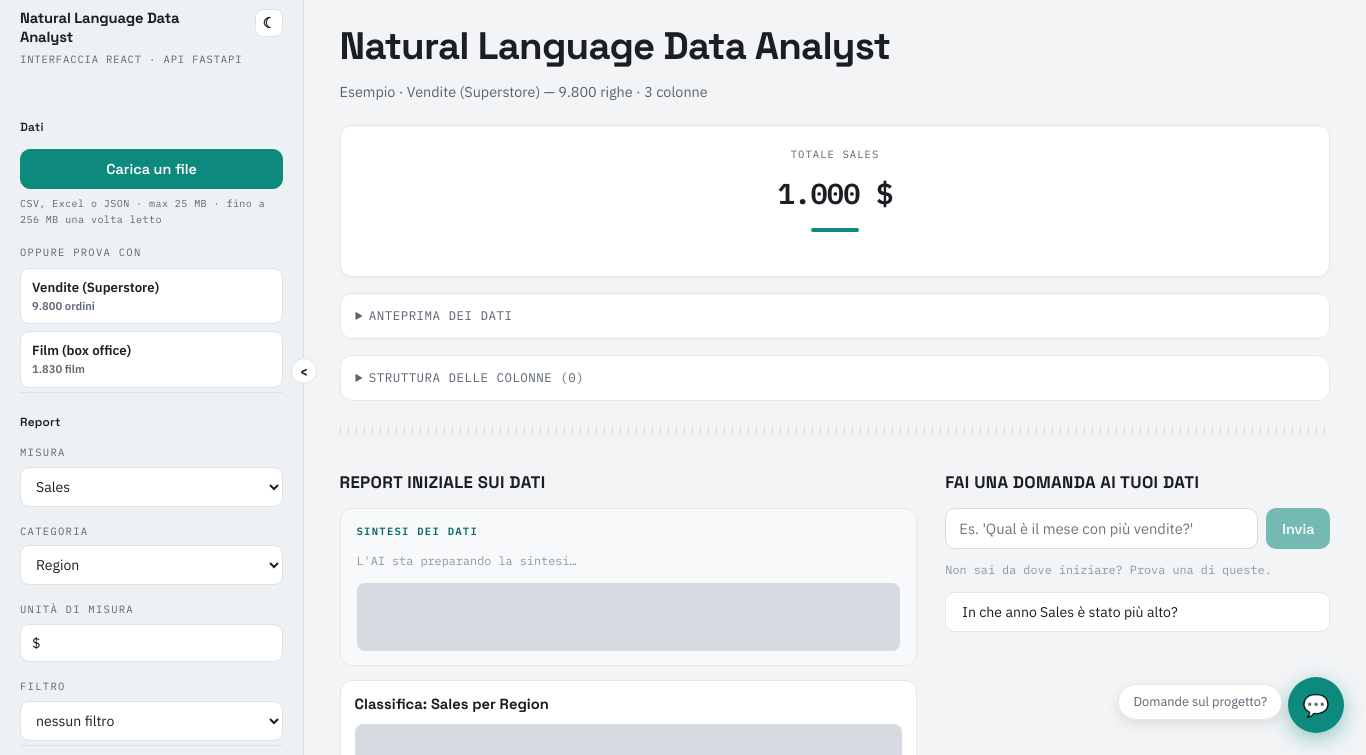
Test case: filtro › si toglie dal riquadro in cima
Expected: the text "Totale Sales" is shown, [791, 147, 879, 161]
Select "Region" in the 3rd dropdown at (152, 721), box [20, 701, 283, 741]
(page scrolled)
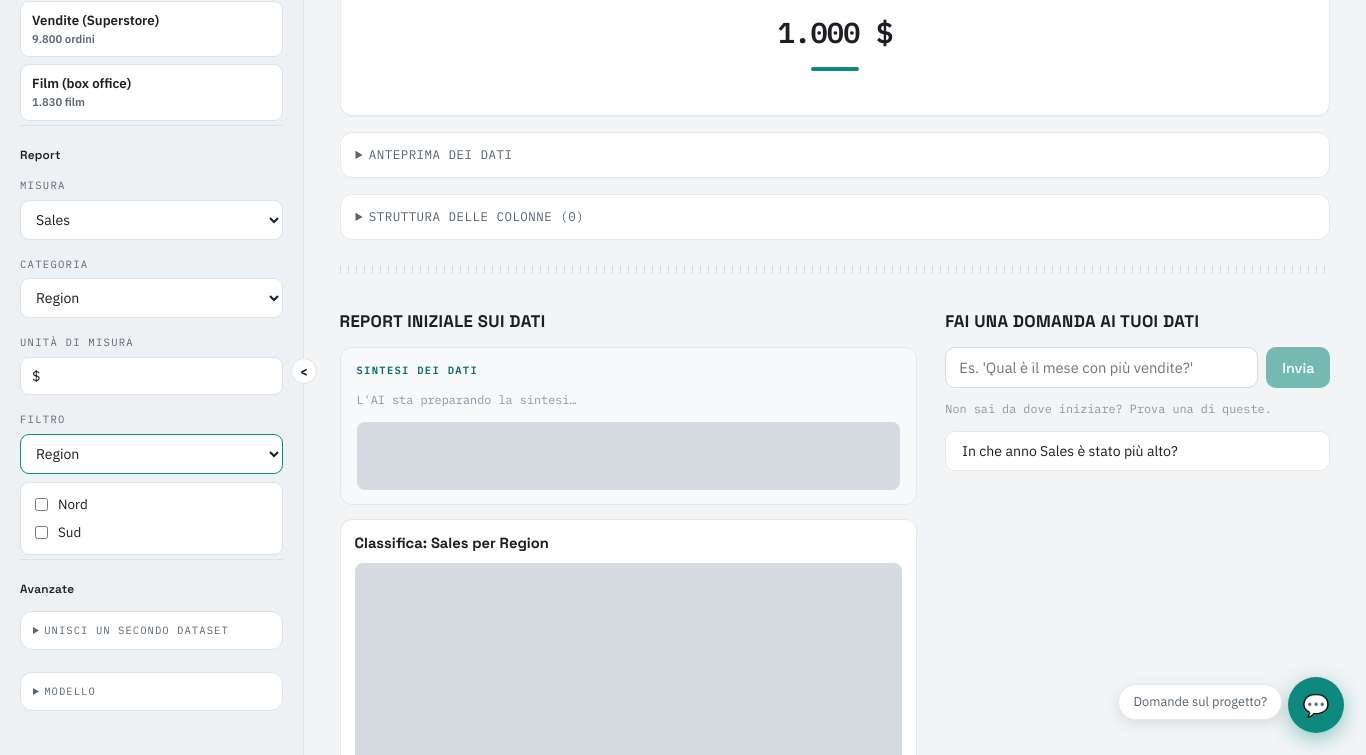
Now the checkbox labelled "Sud" is shown
Click the checkbox labelled "Sud" at (42, 532), box [35, 526, 48, 539]
(page scrolled)
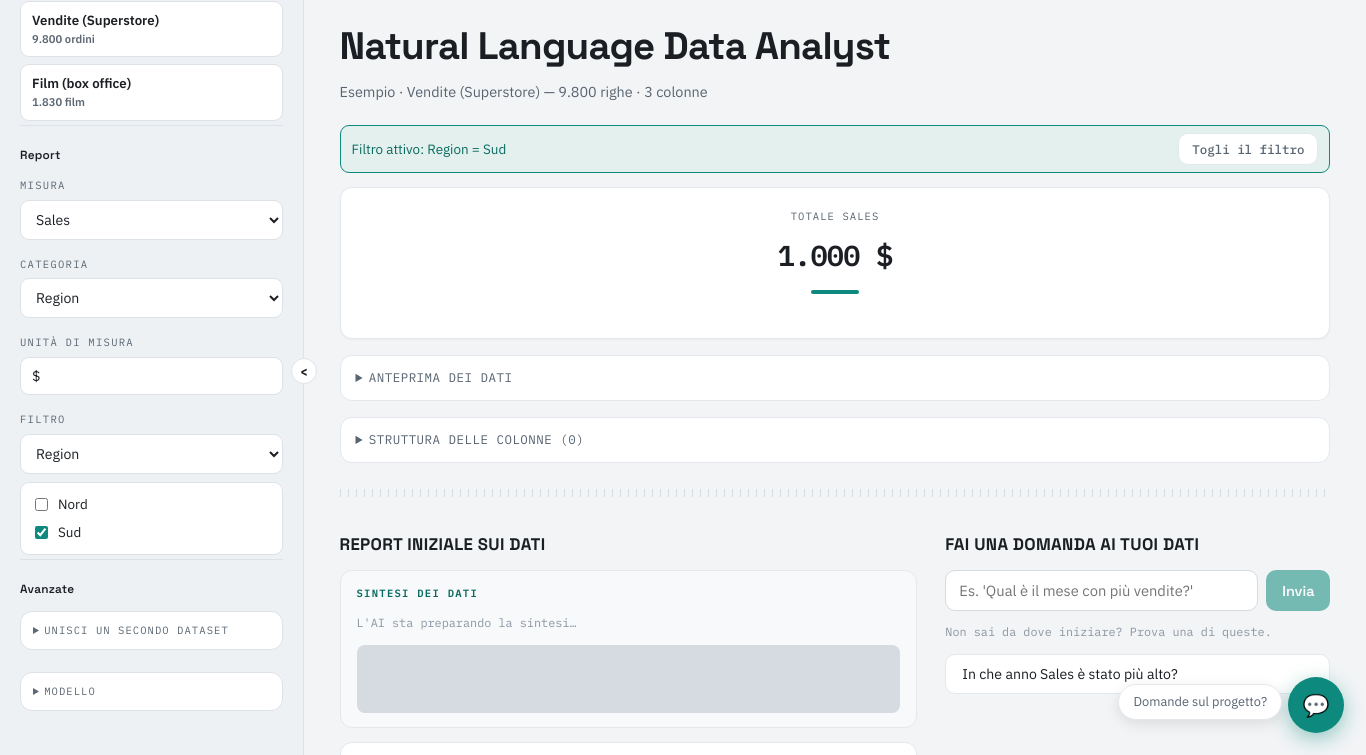
Now the text "Filtro attivo: Region = Sud" is shown, box [352, 139, 506, 160]
Click the button "Togli il filtro" at (1248, 149), box [1178, 133, 1318, 165]
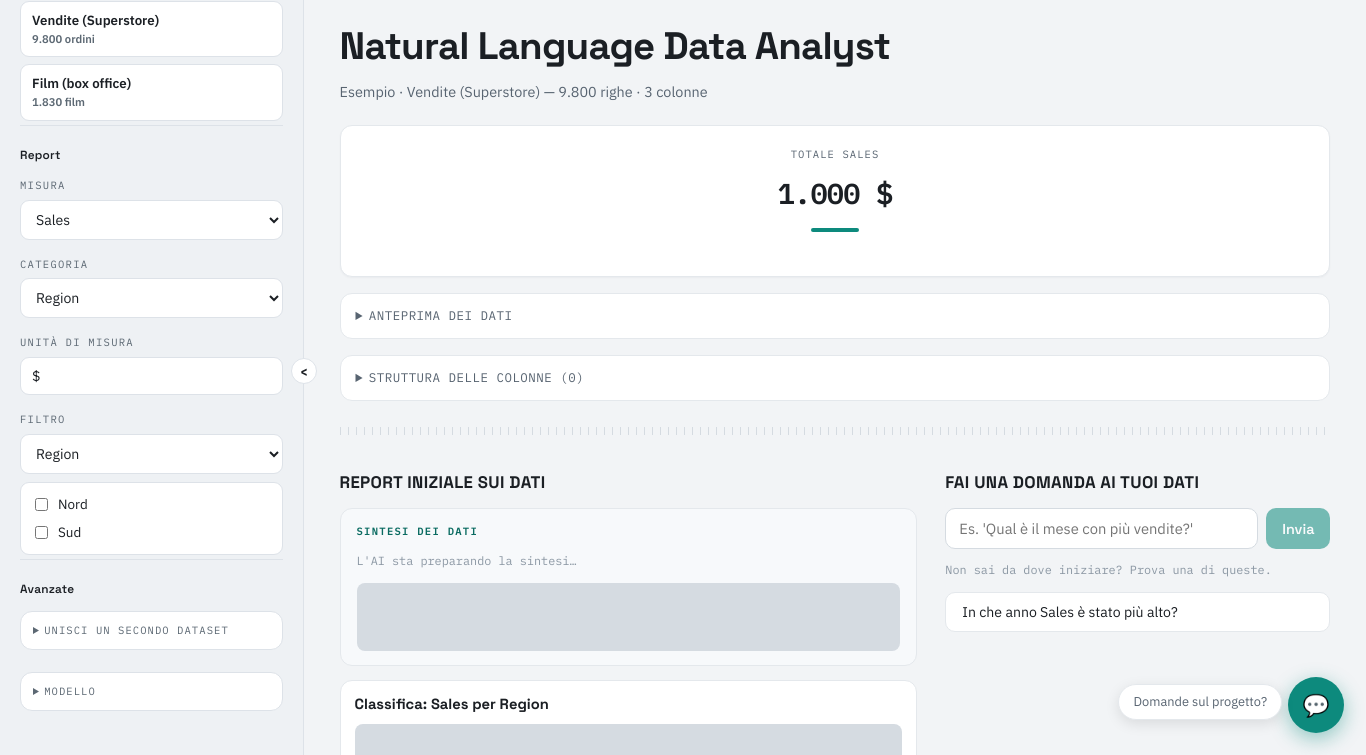
Now the text "Filtro attivo" is gone
